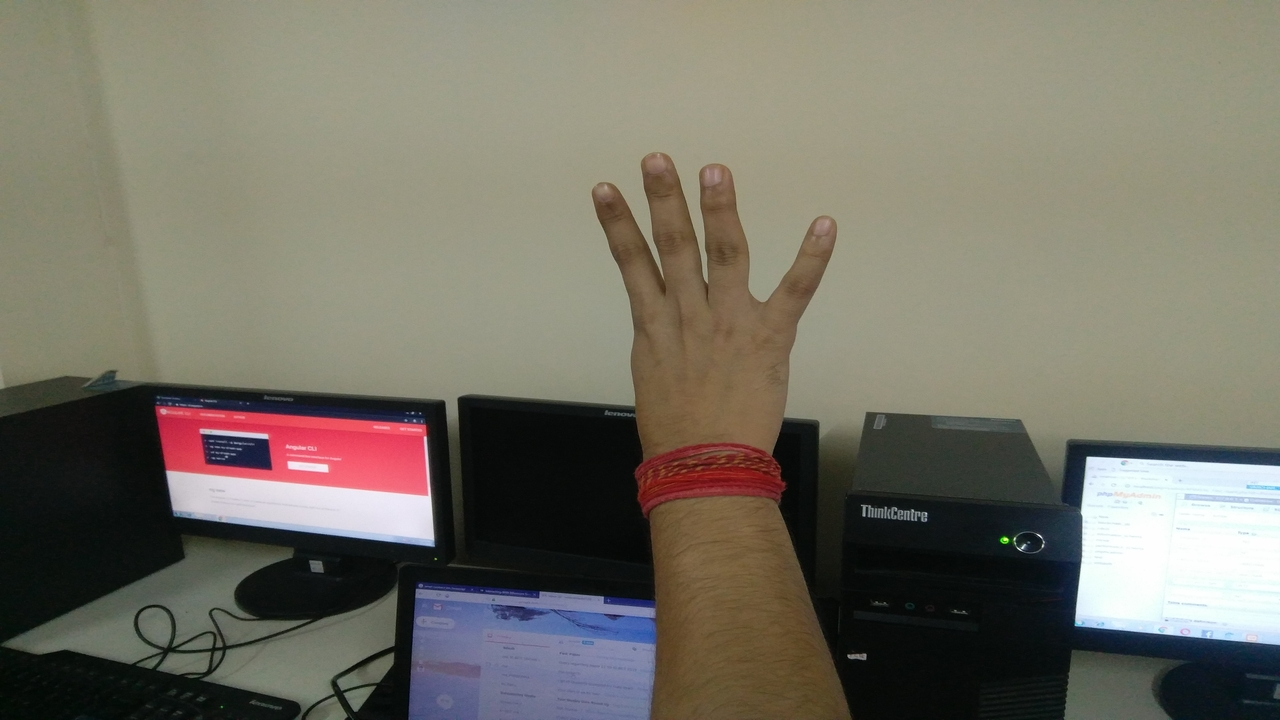fingertip: (796, 202, 850, 252), (584, 172, 632, 218), (690, 154, 742, 196), (636, 146, 686, 186)
